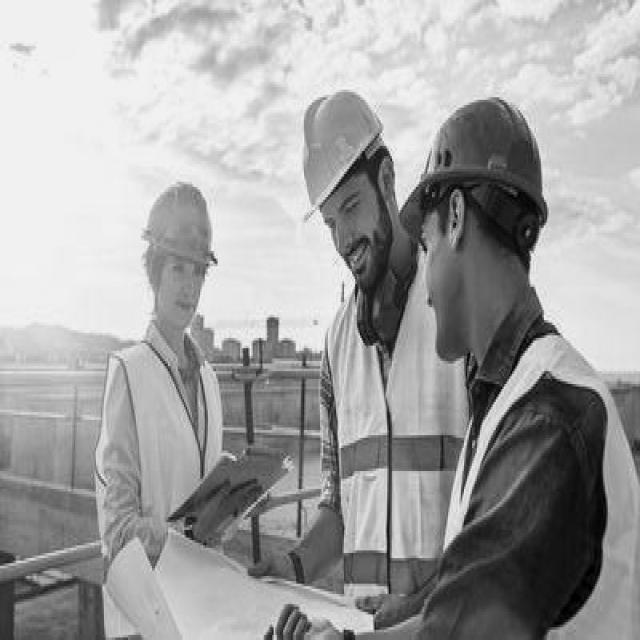face_nomask: (414, 190, 480, 366), (327, 162, 388, 294), (160, 251, 206, 325)
hand_noglove: (190, 473, 268, 548)
head_helmet: (402, 100, 550, 215), (298, 79, 380, 215), (138, 182, 219, 253)
person: (426, 105, 598, 640), (288, 79, 437, 520), (93, 185, 235, 632)
vest: (462, 333, 634, 614), (328, 256, 437, 602), (98, 343, 218, 620)
